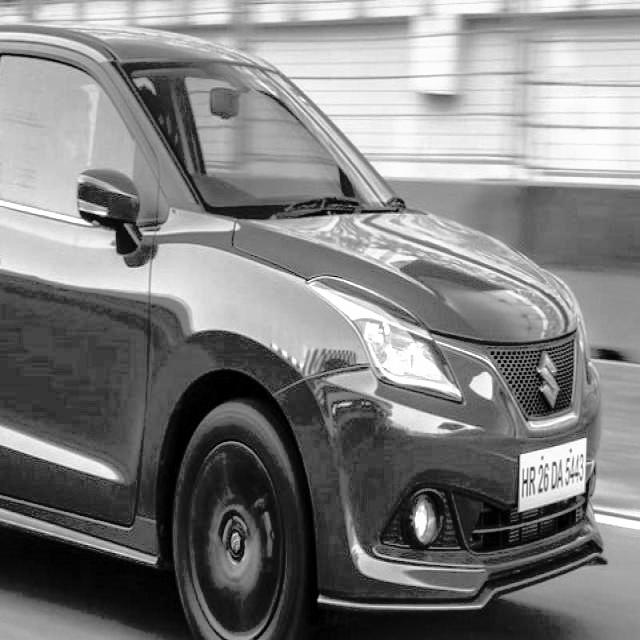Car: (0, 24, 599, 640)
